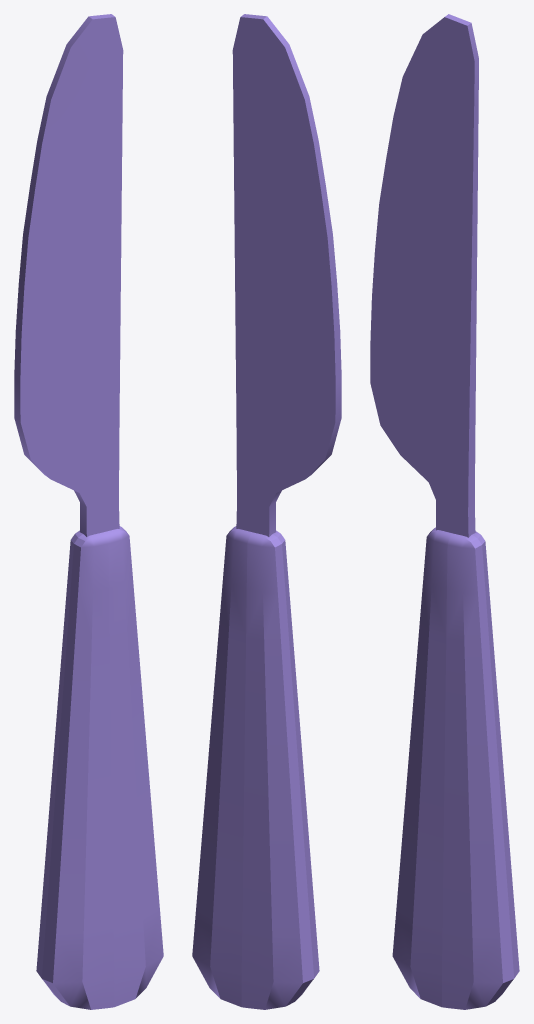
Rendered from PROPS_OTHER_KNIFE_MODEL.fbx.
3 views of the same model, side by side, from view 1: azimuth 30°, elevation 25°; view 2: azimuth 150°, elevation 25°; view 3: azimuth 330°, elevation 25° (orthographic).
Parts seen in each view (by area): view 1: PROPS_OTHER_KNIFE_MODEL; view 2: PROPS_OTHER_KNIFE_MODEL; view 3: PROPS_OTHER_KNIFE_MODEL.
Boxes of the visible parts, box(x1,y1,x2,y2) form: PROPS_OTHER_KNIFE_MODEL: box(14, 14, 163, 1009); PROPS_OTHER_KNIFE_MODEL: box(192, 14, 341, 1009); PROPS_OTHER_KNIFE_MODEL: box(370, 14, 519, 1009).
Size of the model in its own units: 2.65 by 17.73 by 0.9266.
